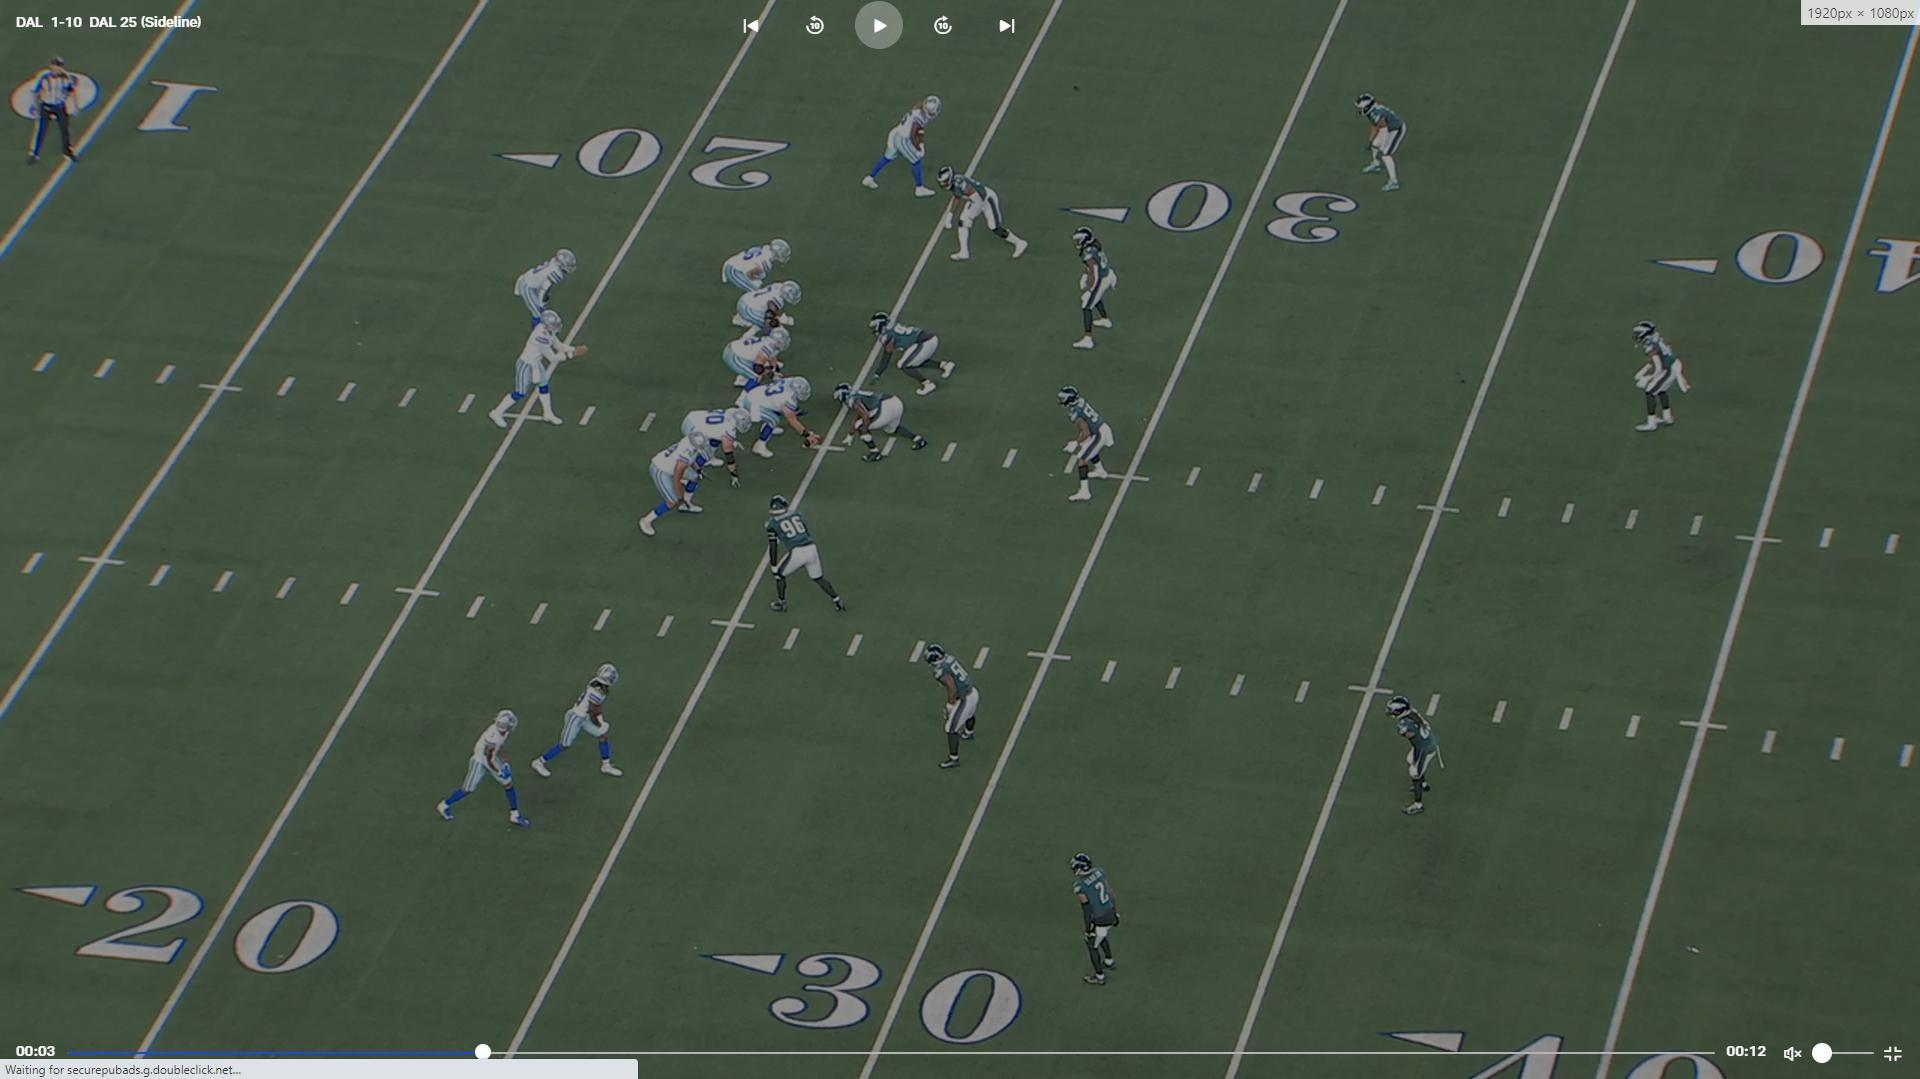player: (433, 702, 534, 835), (527, 659, 631, 785), (496, 303, 596, 429), (764, 494, 857, 617), (936, 166, 1033, 265), (862, 94, 949, 204), (923, 642, 989, 777), (636, 431, 716, 541), (1067, 854, 1128, 994), (1380, 692, 1442, 828), (831, 382, 929, 465), (869, 311, 961, 398), (1055, 382, 1115, 507), (741, 376, 824, 461), (1632, 317, 1691, 436), (514, 247, 582, 339), (1069, 224, 1117, 354), (683, 404, 753, 488), (1355, 89, 1408, 193), (724, 320, 797, 394), (731, 277, 802, 336), (726, 237, 797, 290)
ref: (15, 57, 83, 173)
